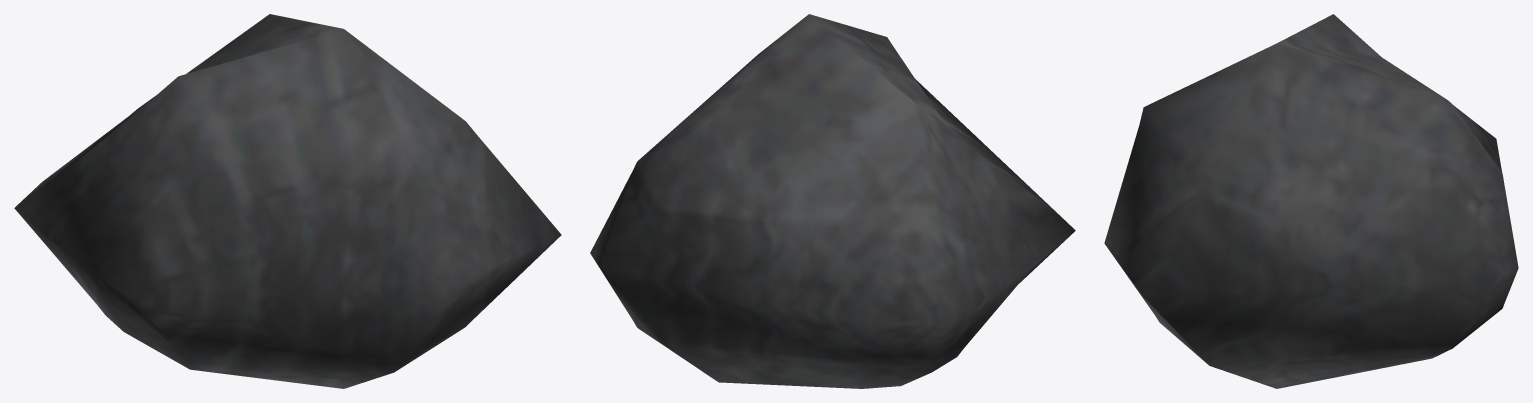
File: detail_mesh_2.fbx
3 renders of one model, left to right at view 1: azimuth 30°, elevation 25°; view 2: azimuth 150°, elevation 25°; view 3: azimuth 270°, elevation 25°, orthographic. The views are drawn at different scales.
Visible parts, largest first — view 1: envPrfRock_detailstoneC_highland_detail; view 2: envPrfRock_detailstoneC_highland_detail; view 3: envPrfRock_detailstoneC_highland_detail.
Part boxes in pixels (<box>): envPrfRock_detailstoneC_highland_detail: <box>14,14,561,388</box>; envPrfRock_detailstoneC_highland_detail: <box>590,14,1075,388</box>; envPrfRock_detailstoneC_highland_detail: <box>1104,14,1518,388</box>.
Bounding box in the file's own units: 0.8476 × 0.7462 × 0.8105.
